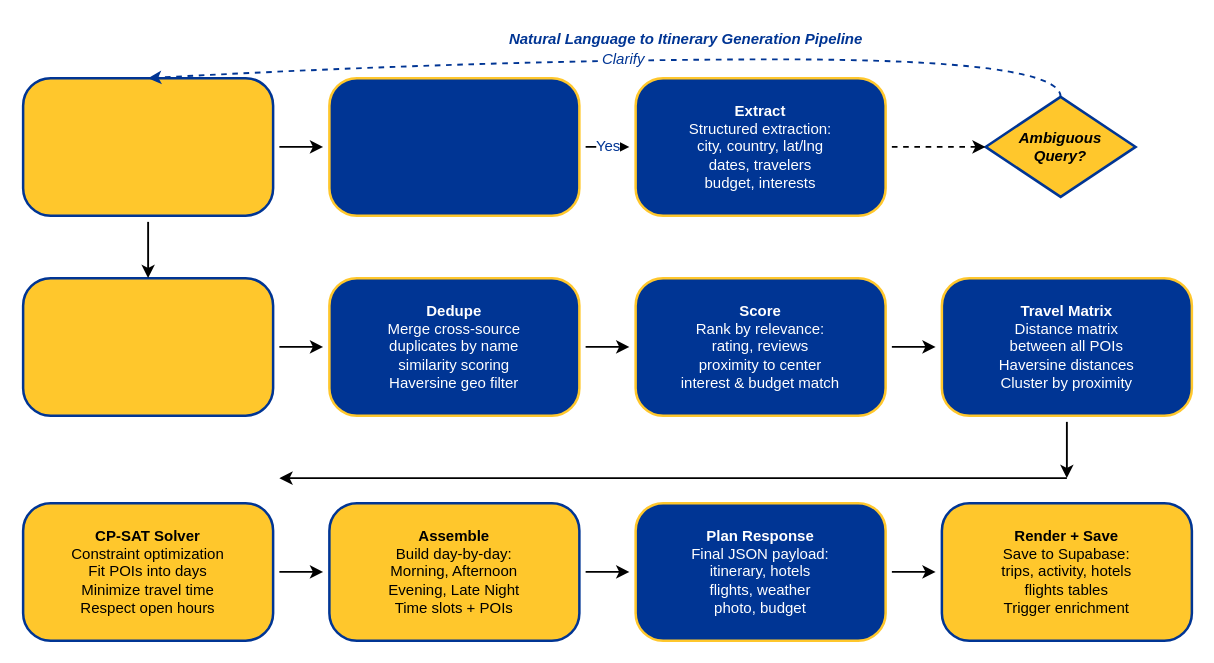
This 1214x663 diagram has some shape labels left out. The centre of each missing label's shape, as x and y in pixels:
Fan-out Parallel API calls: Foursquare, SerpAPI Hotels, flights Weather, events: (147,346)
Prompt User enters NL query "5 days in Tokyo with my partner" POST /api/extract: (147,146)
Route Classify intent Geocode destination Resolve dates LLM structured output: (454,146)
